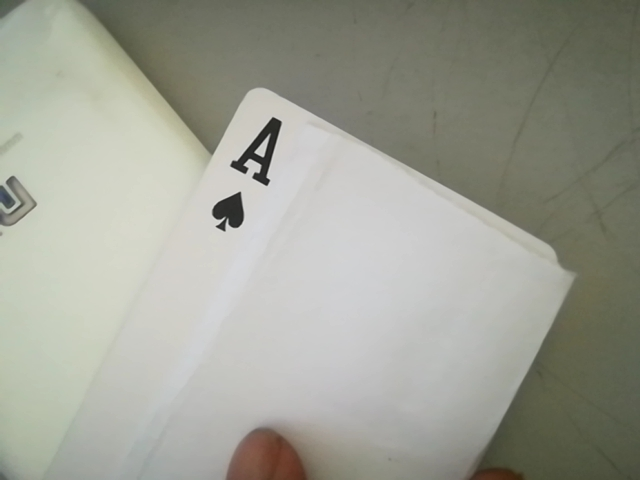ht a: (201, 95, 311, 242)
